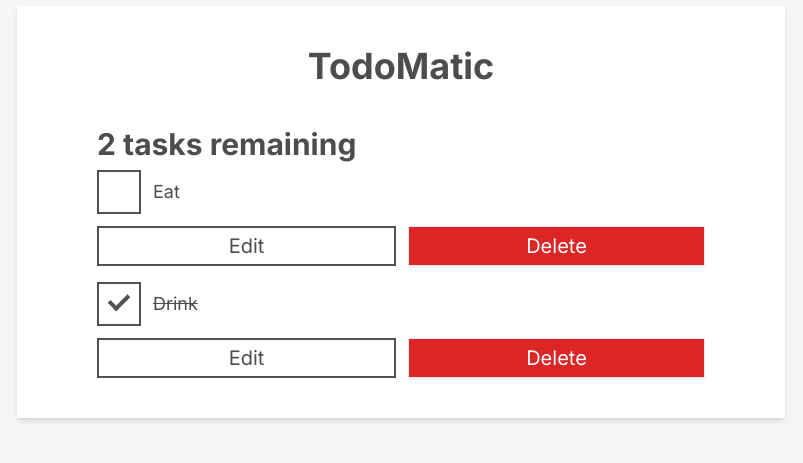
Test: Todo Integration test › edits and cancel a task
Click the button "Edit" below "Drink" at (246, 358), box [97, 338, 396, 378]
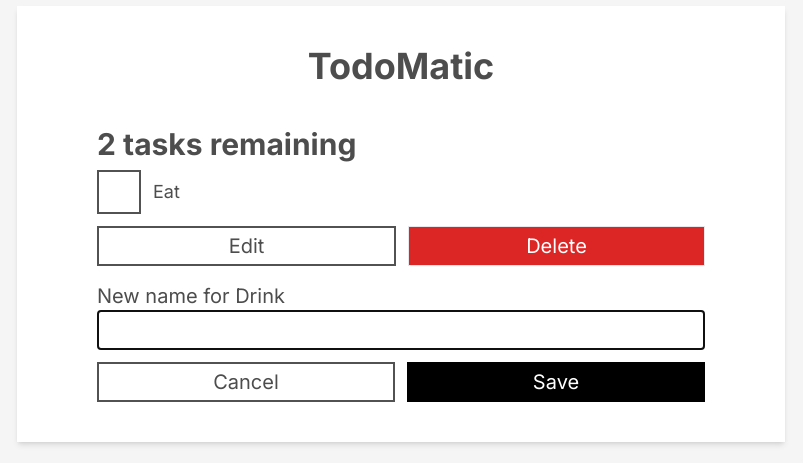
Type "edited Task" into the field at (401, 330), box [97, 310, 705, 350]
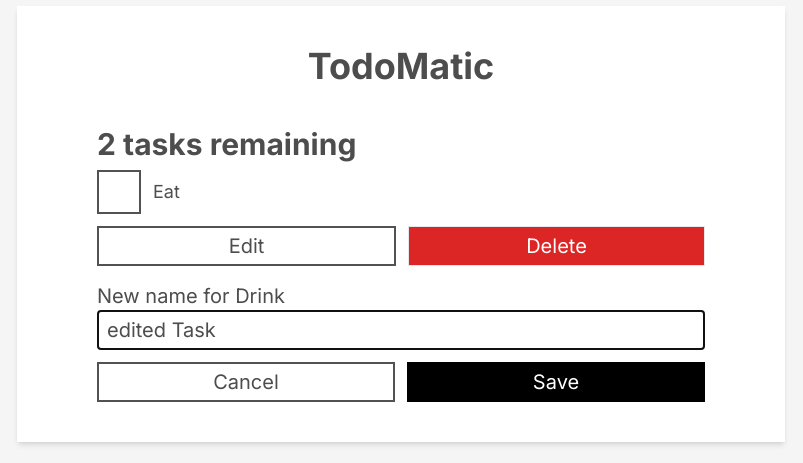
Click the button "Cancel" at (246, 382), box [97, 362, 395, 402]
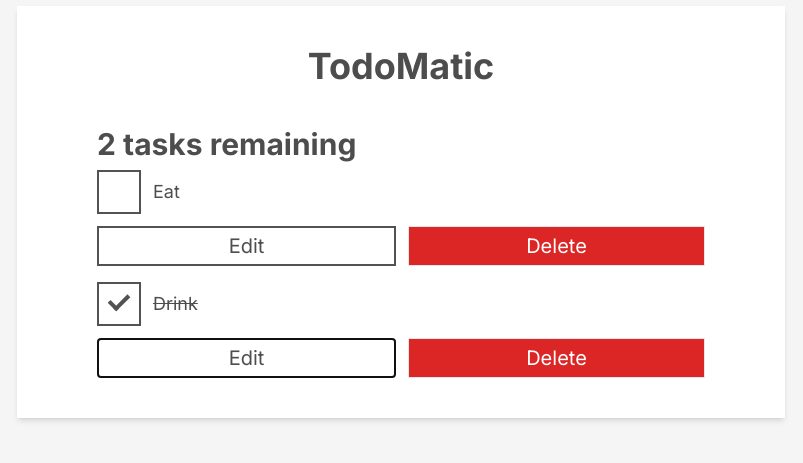
Result: the number of checkboxes is 2 at [97, 170, 141, 214]; [97, 282, 141, 326]
